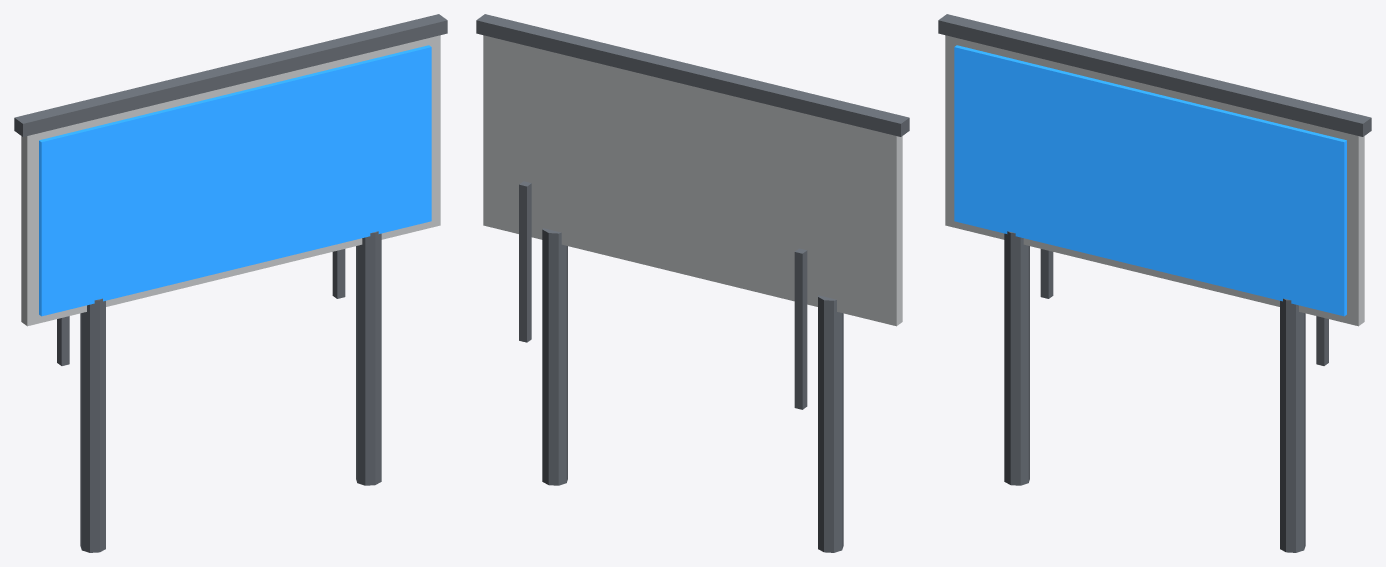
Rendered from billboard.glb.
3 views of the same model, side by side, from view 1: azimuth 30°, elevation 25°; view 2: azimuth 150°, elevation 25°; view 3: azimuth 330°, elevation 25° (orthographic).
Visible parts, largest first — view 1: Billboard; view 2: Billboard; view 3: Billboard.
Boxes of the visible parts, x1=… form: Billboard: x1=14, y1=14, x2=447, y2=552; Billboard: x1=476, y1=14, x2=909, y2=552; Billboard: x1=938, y1=14, x2=1371, y2=552.
Bounding box in the file's own units: 7.4 × 7.41 × 1.17.
